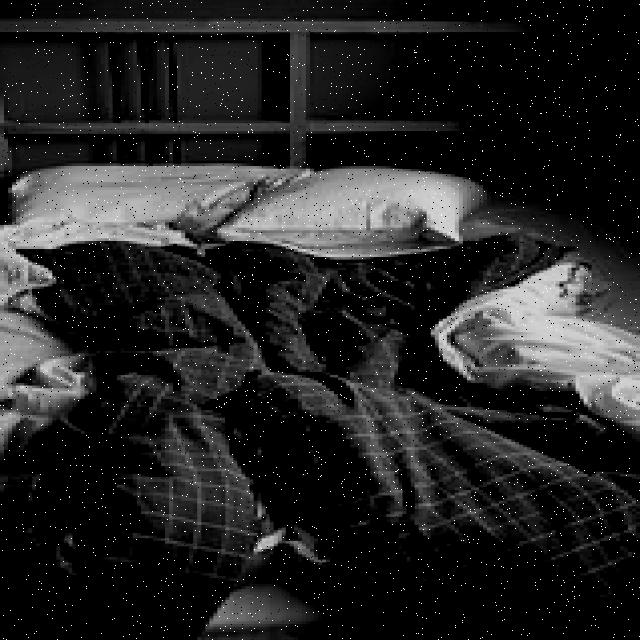bed: (7, 105, 640, 626)
